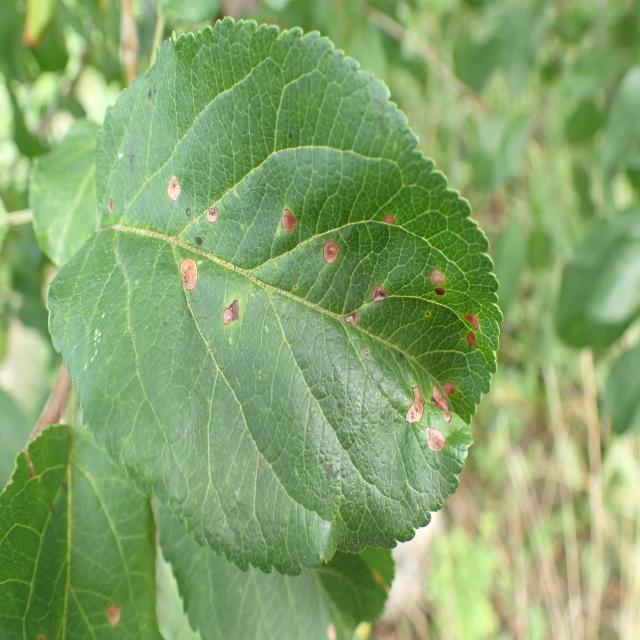Black Rot: (146, 138, 192, 215), (169, 252, 213, 326), (396, 371, 435, 436), (210, 288, 252, 347), (266, 188, 301, 250), (427, 360, 462, 422), (420, 421, 453, 475), (456, 296, 486, 354), (364, 278, 403, 322), (316, 225, 345, 283), (423, 255, 452, 309), (196, 186, 228, 231), (370, 207, 409, 240), (97, 188, 126, 220), (341, 312, 360, 337)
